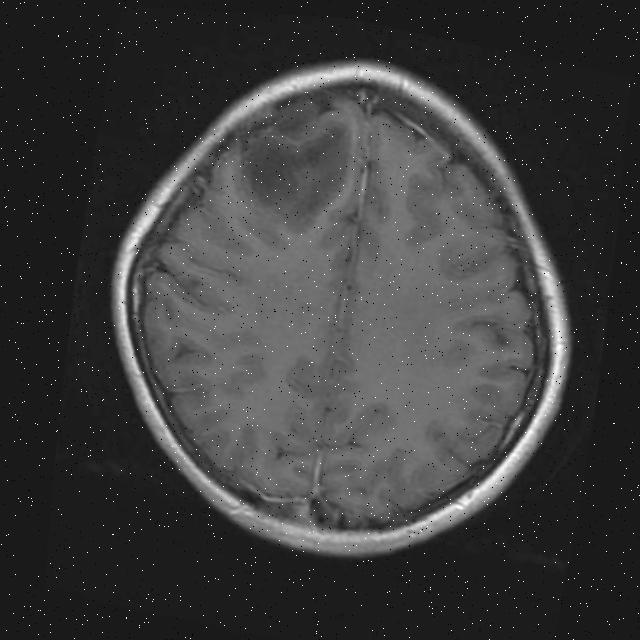Glioma: (234, 100, 360, 236)
